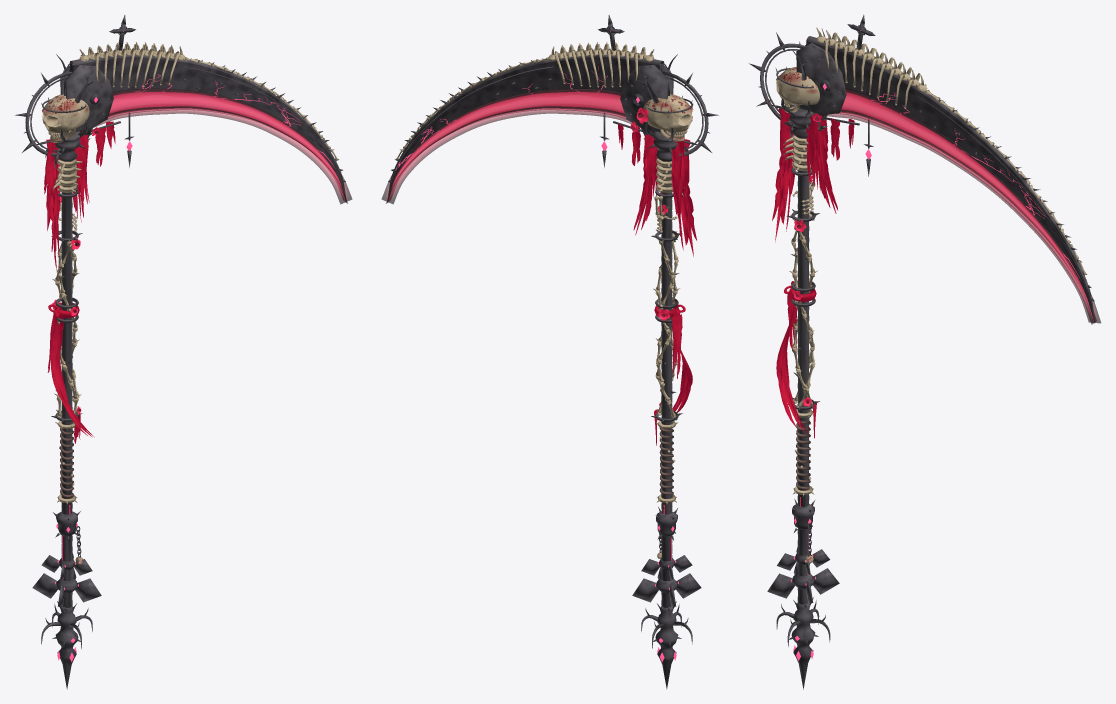
File: scythe.glb
The picture shows the model from 3 angles, left to right: view 1: azimuth 30°, elevation 25°; view 2: azimuth 150°, elevation 25°; view 3: azimuth 330°, elevation 25°; orthographic projection. The views are drawn at different scales.
Visible parts, largest first — view 1: Scythe_metal, Scythe_steel, Scythe_glow, Scythe_bone, Scythe_fabric, Scythe_energy, Scythe_skull, Scythe_energyCore, Scythe_leather; view 2: Scythe_metal, Scythe_steel, Scythe_glow, Scythe_bone, Scythe_fabric, Scythe_energy, Scythe_skull, Scythe_energyCore, Scythe_leather; view 3: Scythe_metal, Scythe_steel, Scythe_glow, Scythe_bone, Scythe_fabric, Scythe_energy, Scythe_skull, Scythe_energyCore, Scythe_leather.
Part boxes in pixels (<box>): Scythe_metal: <box>15,15,346,689</box>; Scythe_steel: <box>70,57,346,557</box>; Scythe_glow: <box>80,88,352,204</box>; Scythe_bone: <box>48,42,337,504</box>; Scythe_fabric: <box>44,121,115,443</box>; Scythe_energy: <box>109,74,345,201</box>; Scythe_skull: <box>42,94,89,564</box>; Scythe_energyCore: <box>62,92,340,579</box>; Scythe_leather: <box>60,428,73,497</box>; Scythe_metal: <box>387,15,718,689</box>; Scythe_steel: <box>387,57,663,552</box>; Scythe_glow: <box>381,88,653,204</box>; Scythe_bone: <box>396,42,687,504</box>; Scythe_fabric: <box>618,123,696,445</box>; Scythe_energy: <box>388,66,624,201</box>; Scythe_skull: <box>643,94,693,558</box>; Scythe_energyCore: <box>393,92,671,579</box>; Scythe_leather: <box>659,428,673,494</box>; Scythe_metal: <box>749,14,1095,689</box>; Scythe_steel: <box>806,41,1094,556</box>; Scythe_glow: <box>824,88,1100,324</box>; Scythe_bone: <box>782,27,1086,496</box>; Scythe_fabric: <box>772,108,854,438</box>; Scythe_energy: <box>842,93,1092,318</box>; Scythe_skull: <box>776,67,819,563</box>; Scythe_energyCore: <box>800,92,1093,575</box>; Scythe_leather: <box>796,416,810,489</box>.
Bounding box in the file's own units: 8.23 × 15.39 × 1.25.
Materials: 14 (5 with a texture image).
